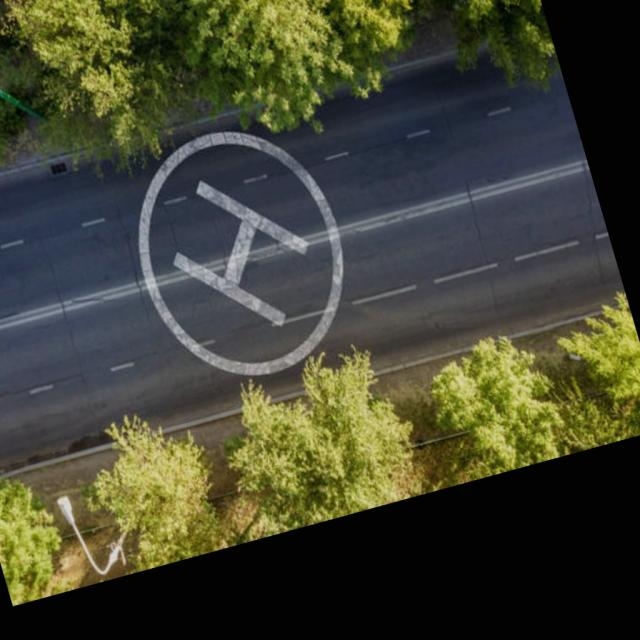helipad: (133, 125, 350, 381)
